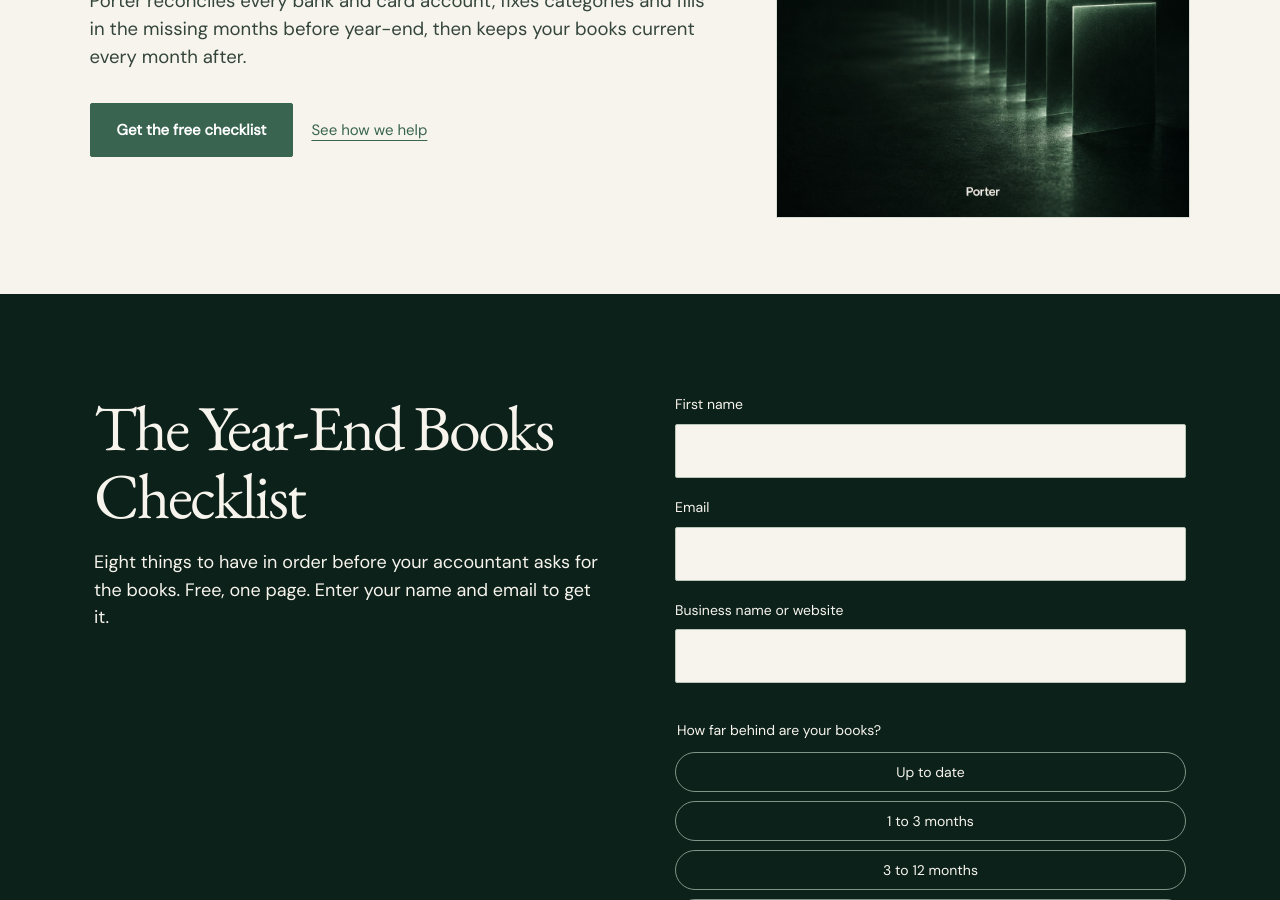
Test: campaign form access › submits cleanup after every question is answered
(page scrolled)
Type "Ada" into the field labelled "First name" at (930, 451), box [675,424,1186,478]
Type "ada@example.com" into the field labelled "Email" at (930, 554), box [675,527,1186,581]
(page scrolled)
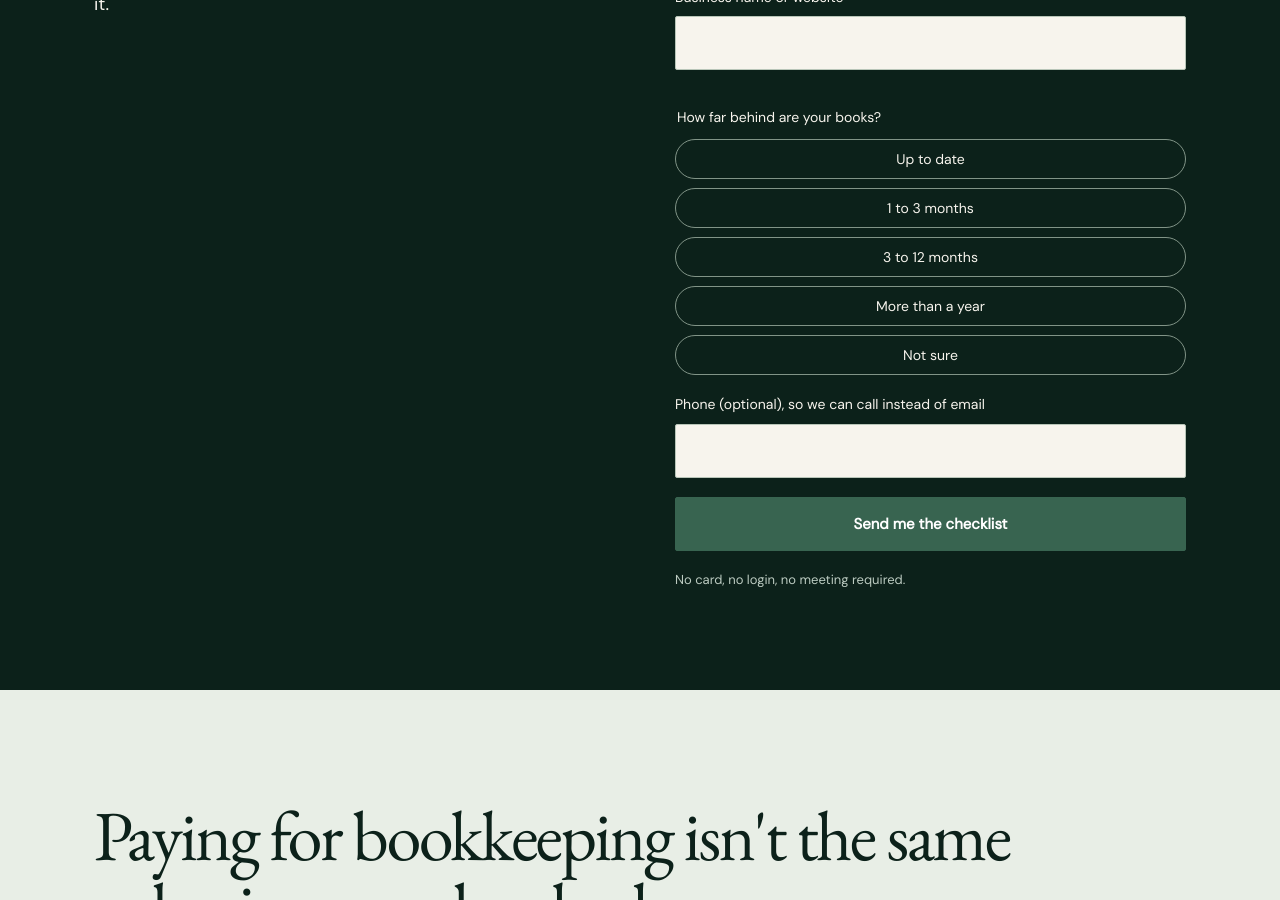
Type "+1 415 555 0100" into the field labelled "Phone (optional), so we can call instead of email" at (930, 451), box [675,424,1186,478]
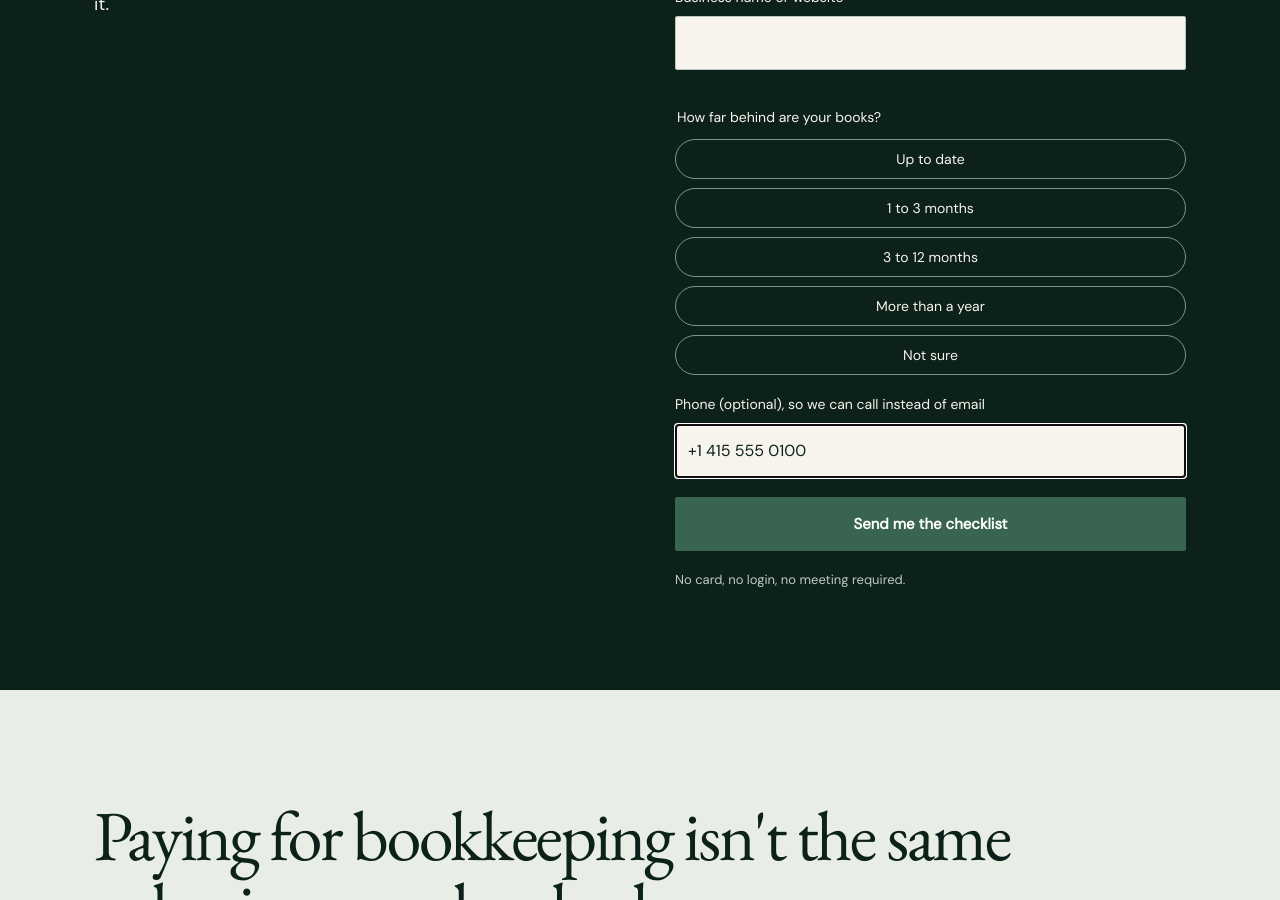
Type "engines.example" into the field labelled "Business name or website" at (930, 43), box [675,16,1186,70]
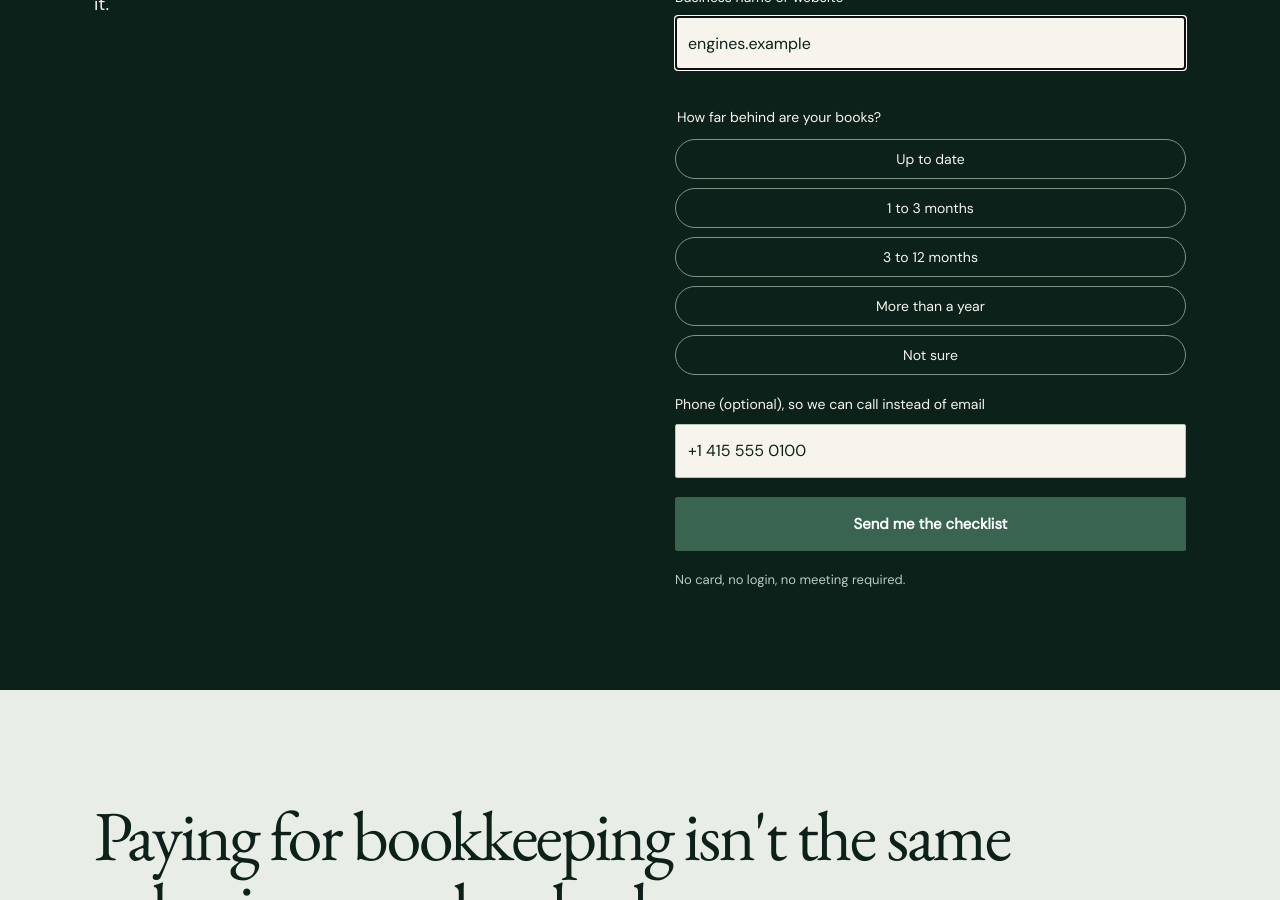
Click the button "Send me the checklist" at (930, 524), box [675,497,1186,551]
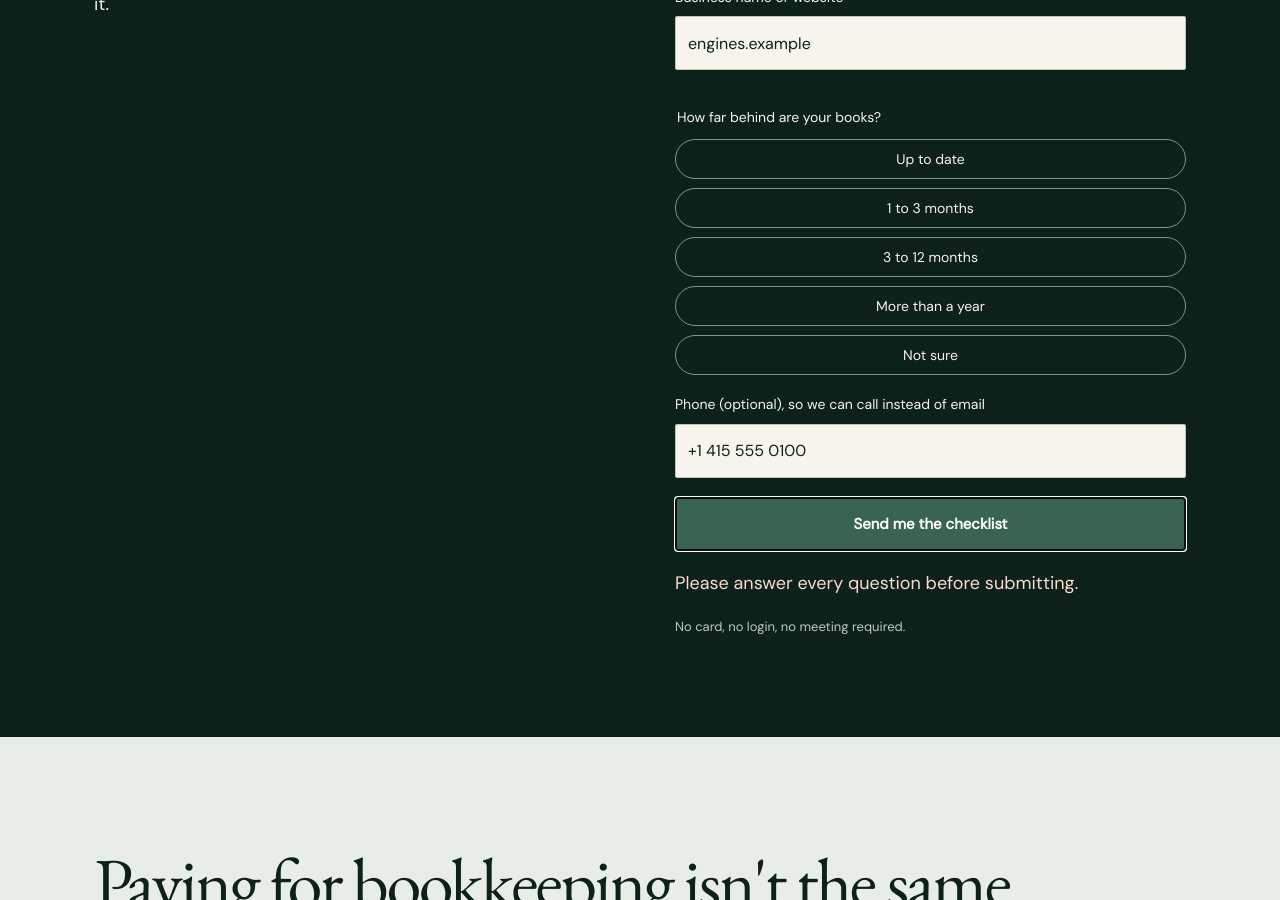
Click the button "Up to date" at (930, 159), box [675,139,1186,179]
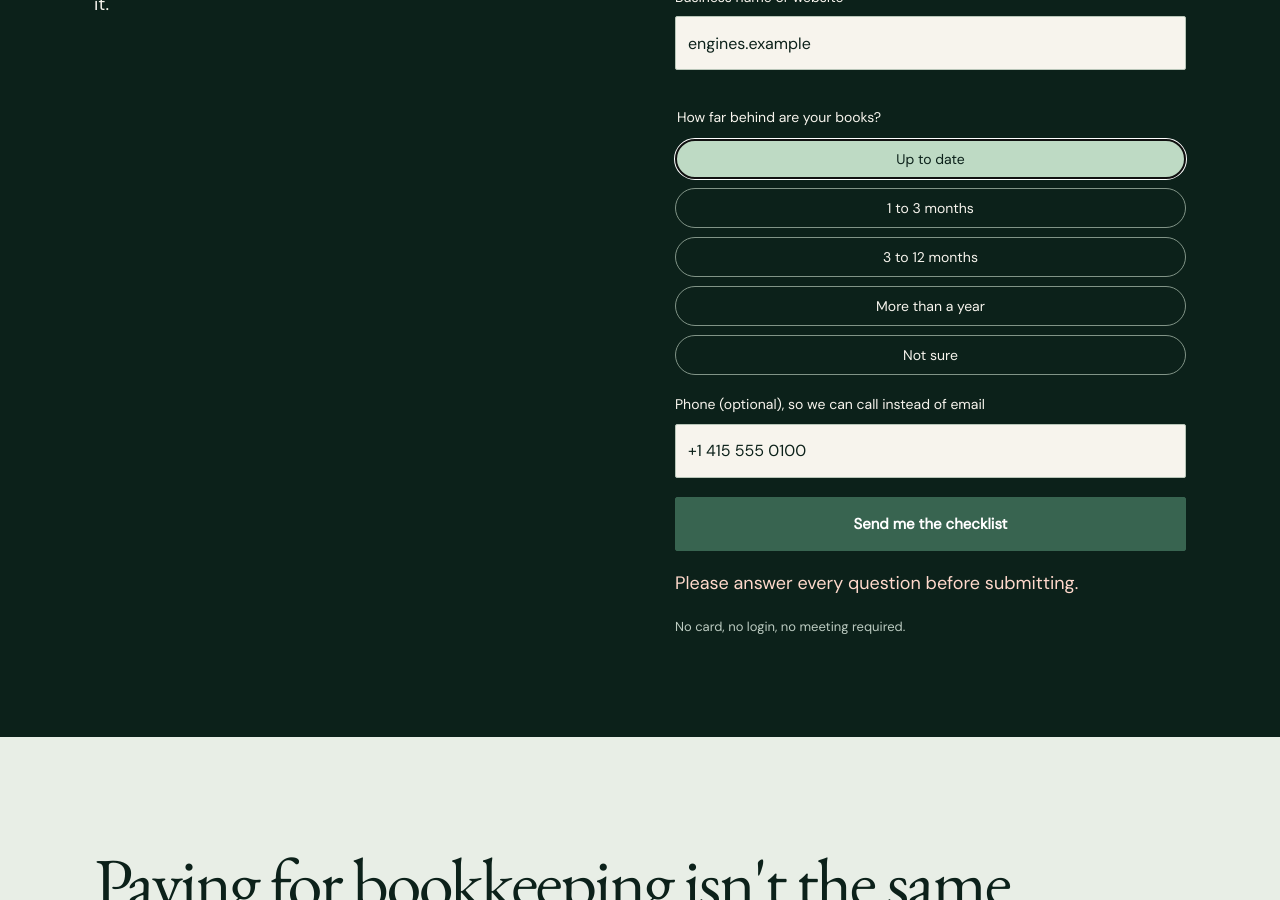
Click the button "Send me the checklist" at (930, 524), box [675,497,1186,551]
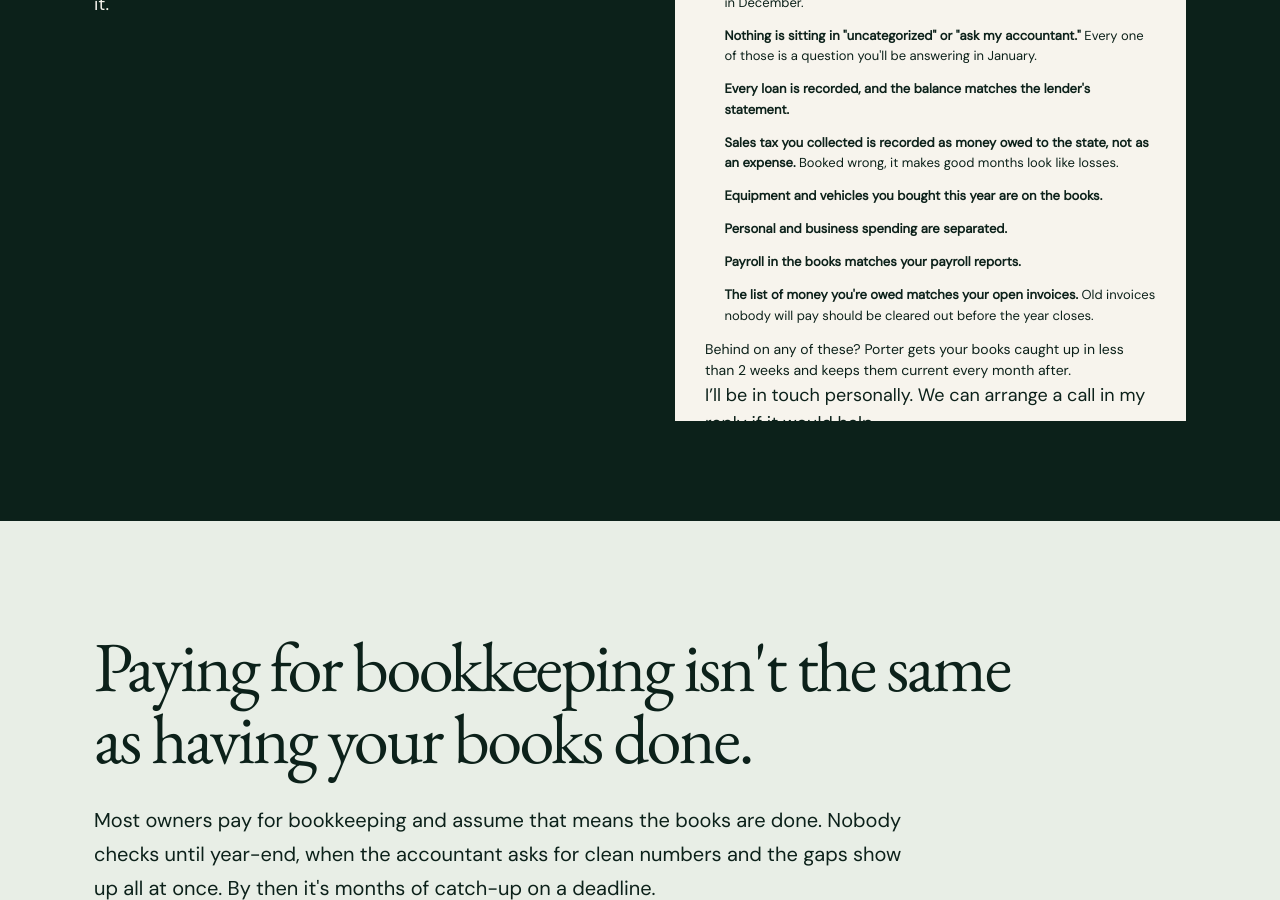
Check: the text "I’ll be in touch personally" is shown, box [705,383,1145,421]
